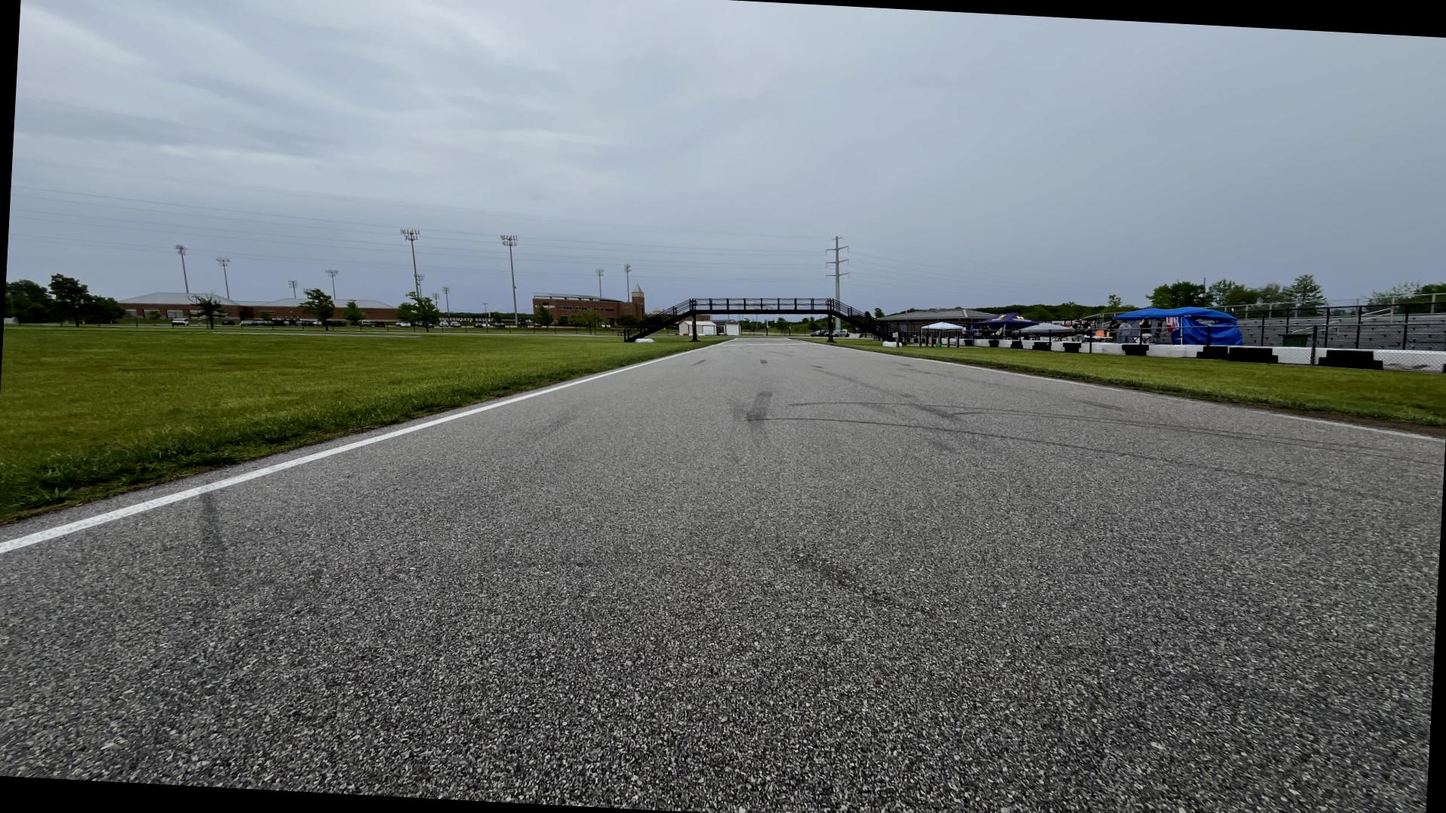white-line: (0, 346, 715, 560), (821, 344, 1444, 441), (790, 340, 815, 344), (718, 340, 734, 344)
